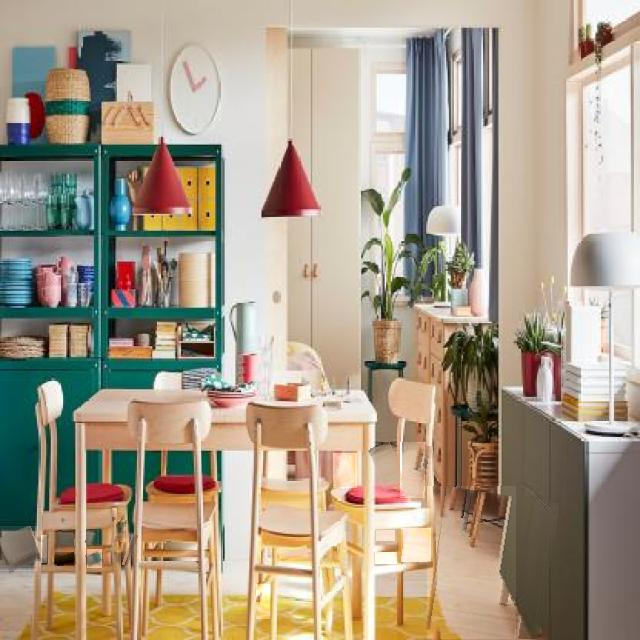floor: (428, 486, 516, 640), (0, 527, 38, 571), (370, 442, 405, 483), (401, 443, 425, 498), (321, 546, 345, 592), (401, 528, 431, 562), (333, 453, 357, 488), (257, 584, 270, 619), (268, 452, 283, 479), (127, 534, 138, 566), (279, 548, 308, 559), (87, 549, 102, 568), (55, 552, 74, 566), (166, 542, 198, 550), (375, 553, 397, 564), (60, 531, 76, 546), (115, 521, 125, 542), (86, 530, 99, 545), (377, 531, 395, 541), (41, 535, 47, 563)
